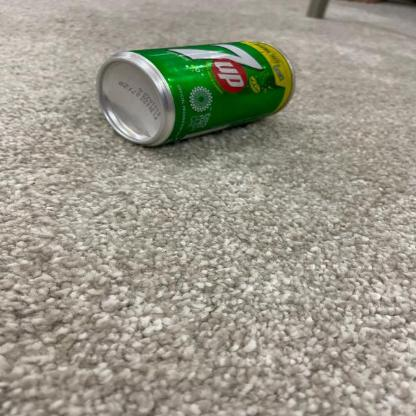Can: (97, 39, 295, 149)
